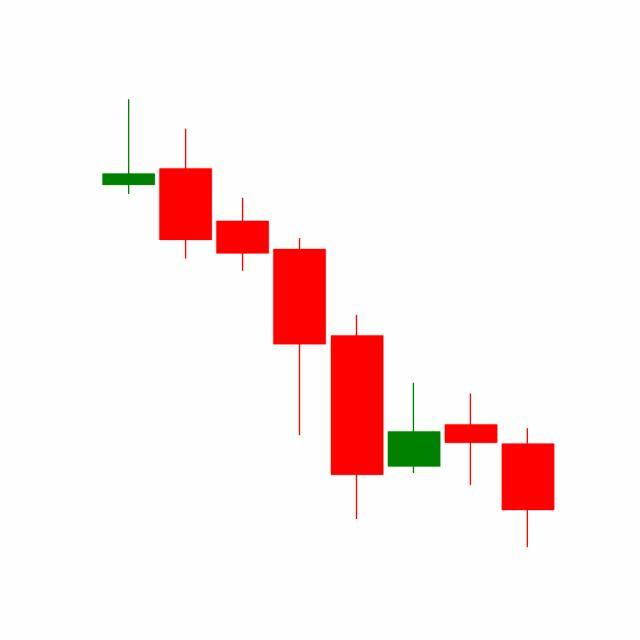Hikkake Pattern: (214, 195, 501, 524)
